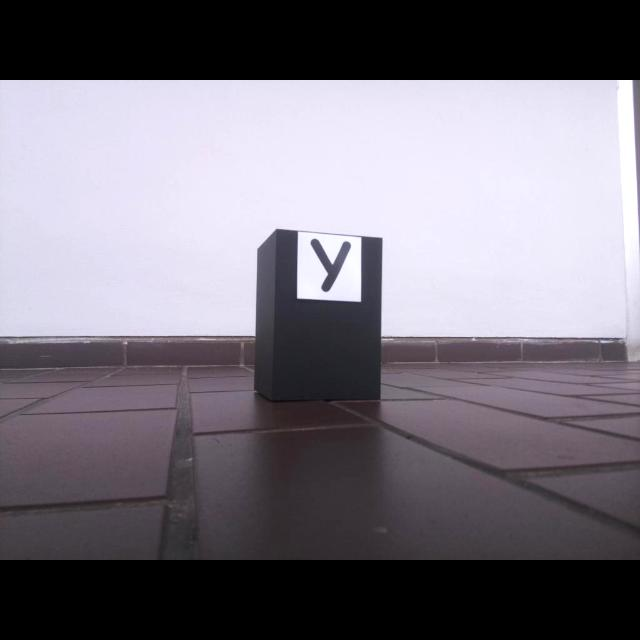Y: (311, 239, 351, 292)
